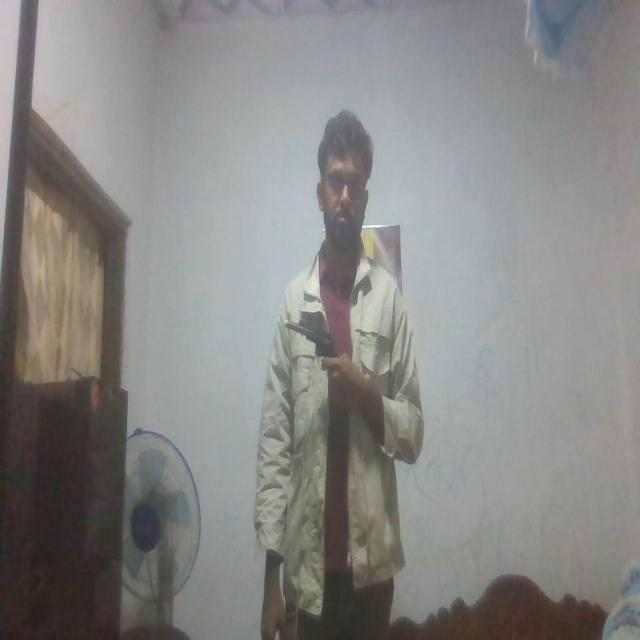Gun_Holder: (283, 311, 347, 392)
Jacket_Wearer: (250, 242, 424, 597)
Person: (247, 109, 425, 640)
